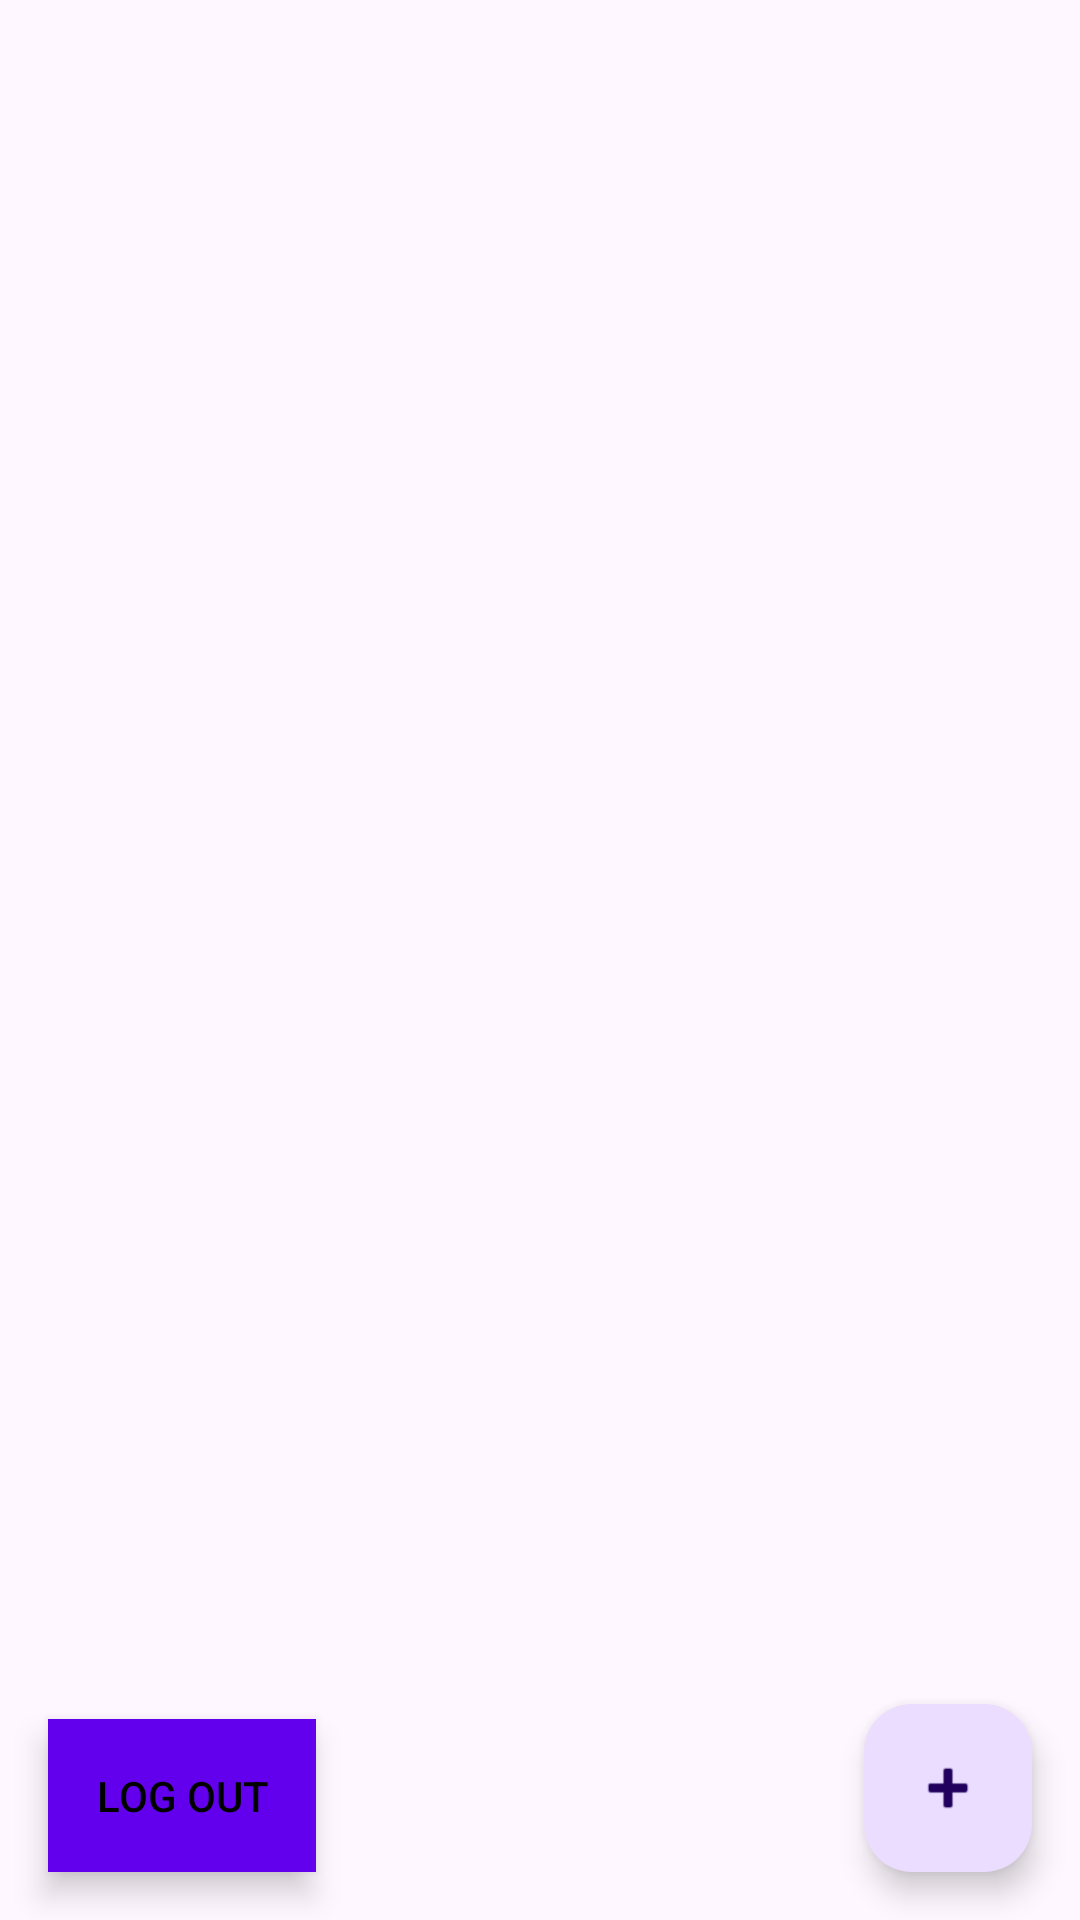

Icons on this 1080px×1920px Android screen, each with its box as box=[x1, y1, x2, y2]:
Add a ToDoItem: box=[864, 1704, 1032, 1872]
